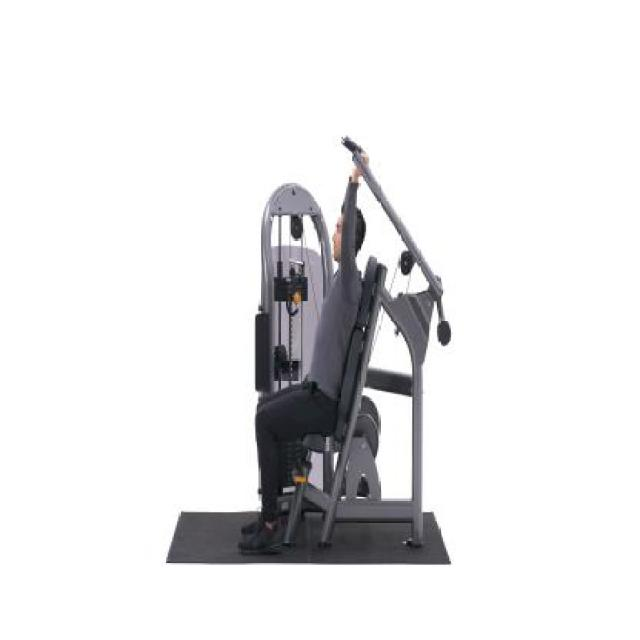shoulder press machine: (161, 131, 454, 575)
